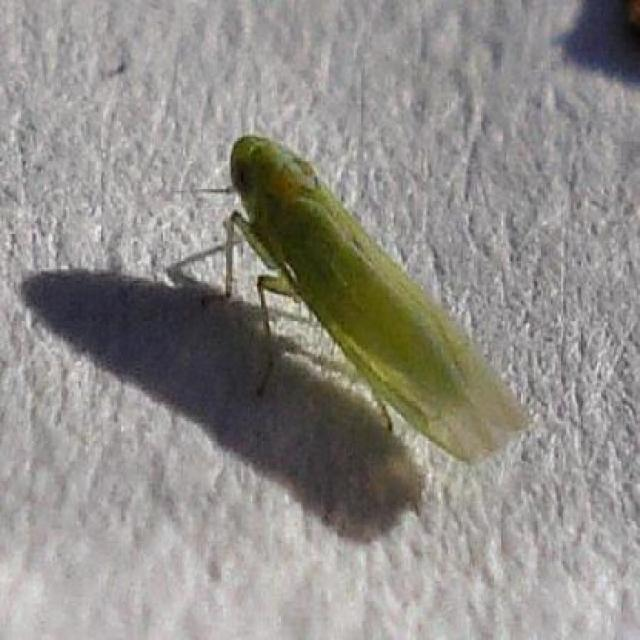green-leafhopper: (217, 129, 508, 471)
